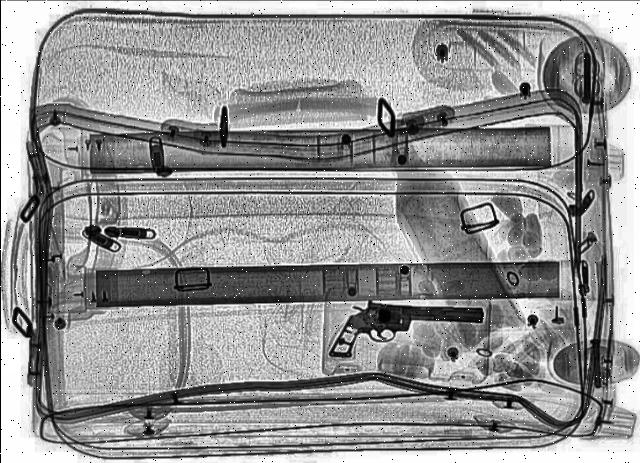Gun: (324, 300, 488, 362)
